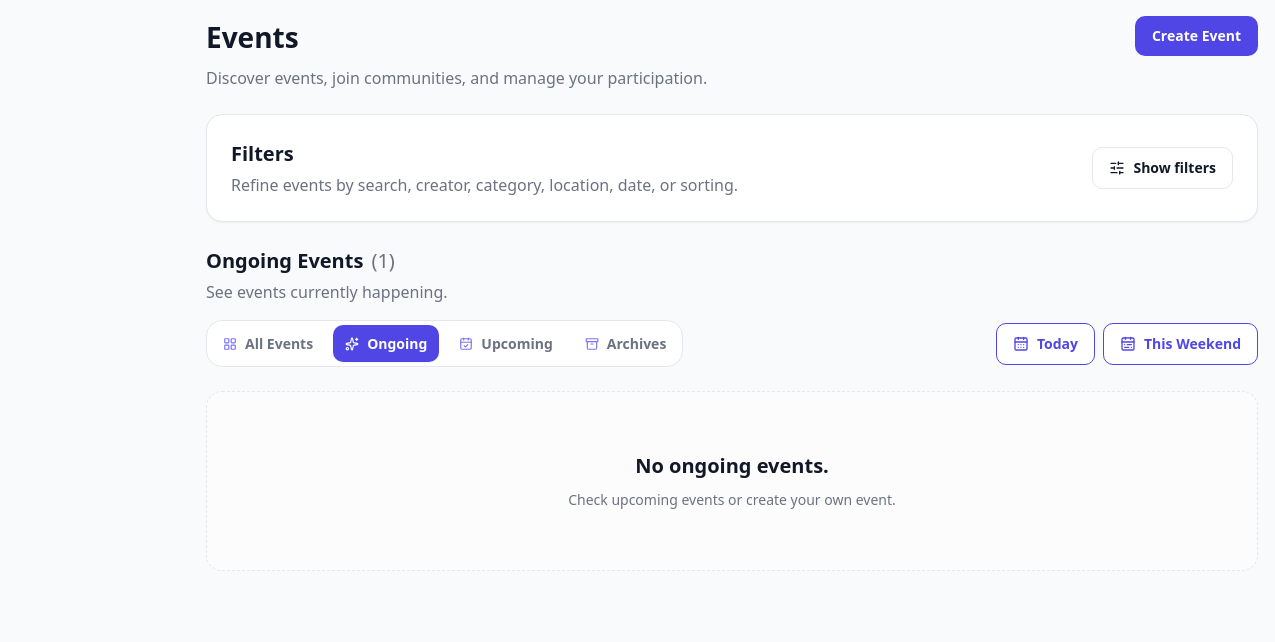
EventsPage › hides quick filters when switching to archives view
Expected: the heading "No ongoing events." is shown, top-left (635, 451), bottom-right (829, 481)
Click the tab "Archives".
click(626, 344)  # box top-left (573, 325), bottom-right (678, 362)
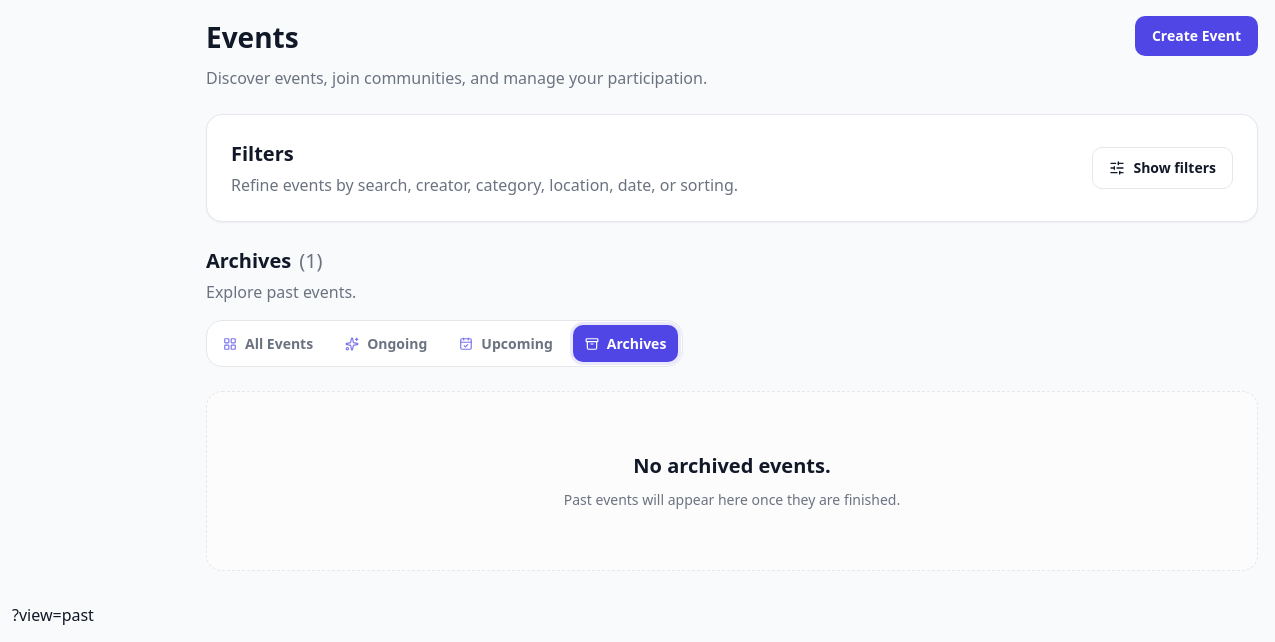
Result: the button "Today" is gone
Result: the button "This Weekend" is gone
